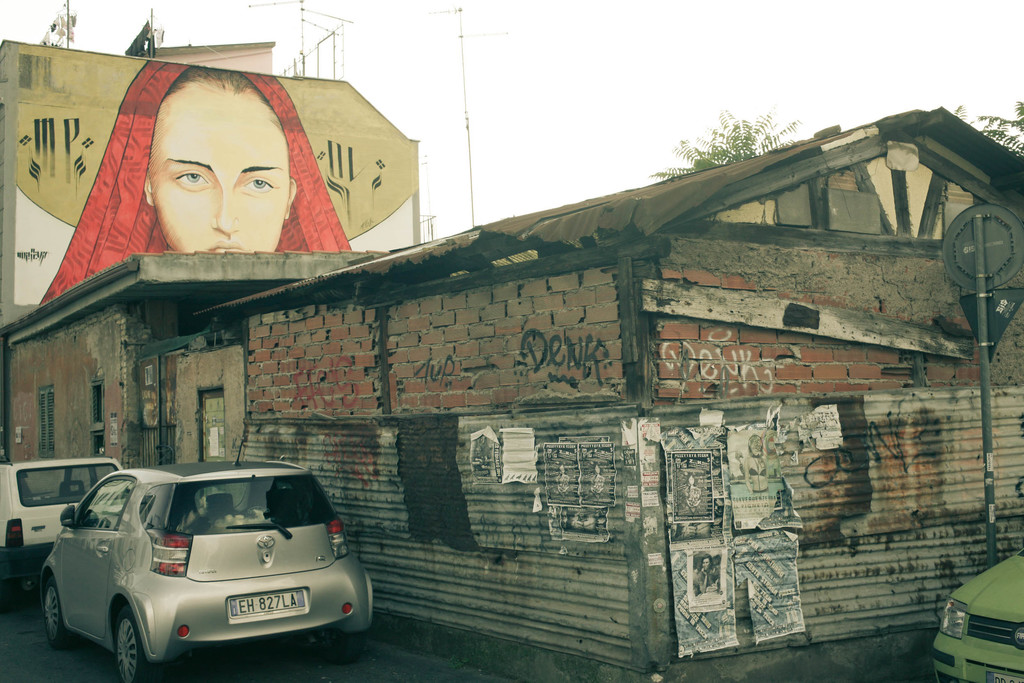Car: (17, 463, 372, 673), (0, 456, 122, 611), (931, 545, 1023, 682)
